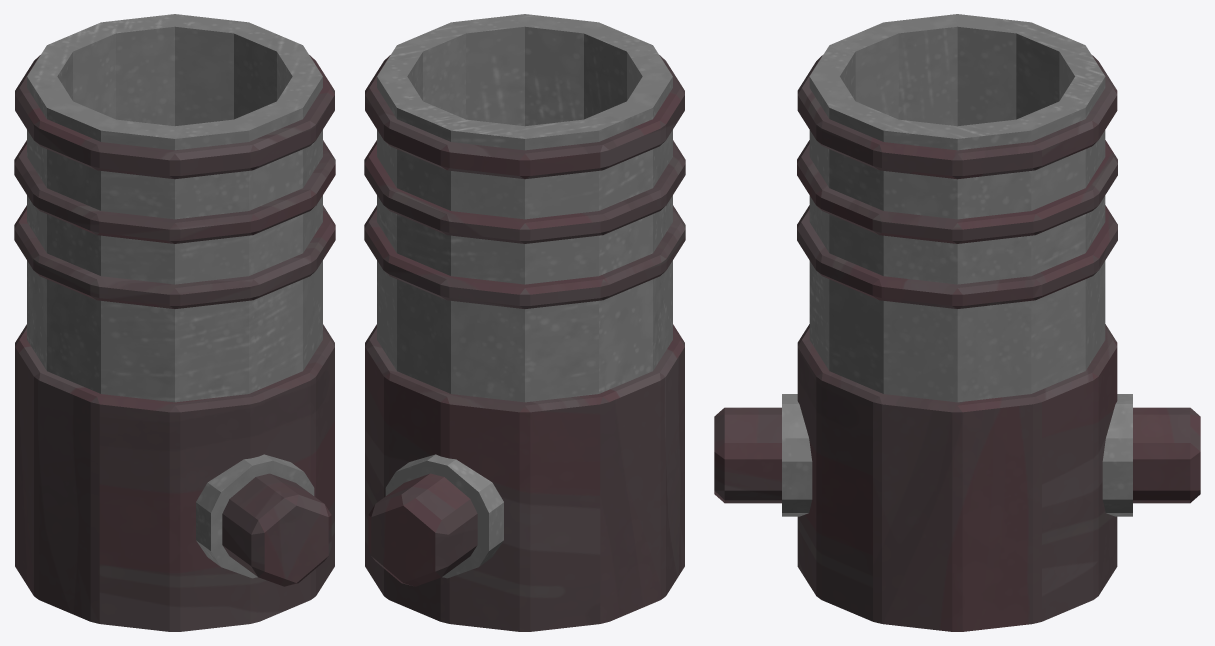
File: Air Cannon.fbx
3 views of the same model, side by side, from view 1: azimuth 30°, elevation 25°; view 2: azimuth 150°, elevation 25°; view 3: azimuth 270°, elevation 25° (orthographic).
Visible parts, largest first — view 1: air_cannon; view 2: air_cannon; view 3: air_cannon.
Part boxes in pixels (box(x1,y1,x2,y2)): air_cannon: box(14, 14, 335, 631); air_cannon: box(364, 14, 685, 631); air_cannon: box(714, 14, 1200, 631).
Bounding box in the file's own units: 86.79 × 146 × 132.
